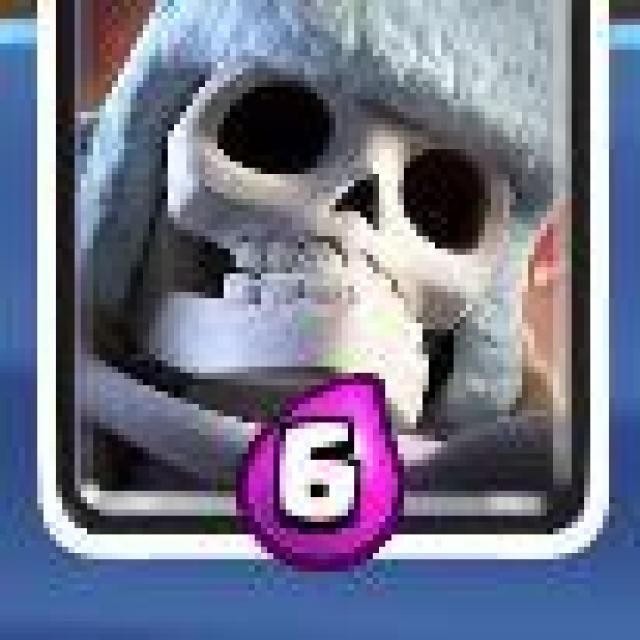Giant_Skeleton: (31, 0, 613, 564)
